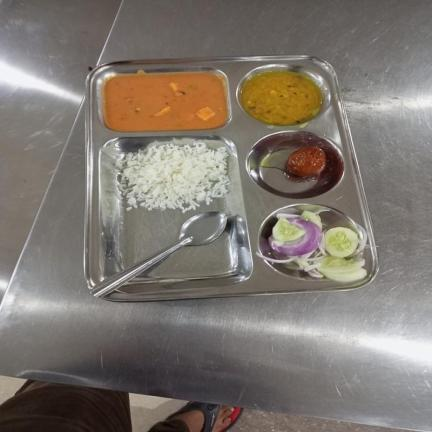Chana Dal: (241, 71, 323, 123)
Gulab Jamun: (285, 146, 327, 180)
Paneer: (103, 72, 228, 130)
Plate: (83, 54, 379, 302)
Rice: (113, 139, 232, 215)
Salad: (255, 210, 367, 281)
